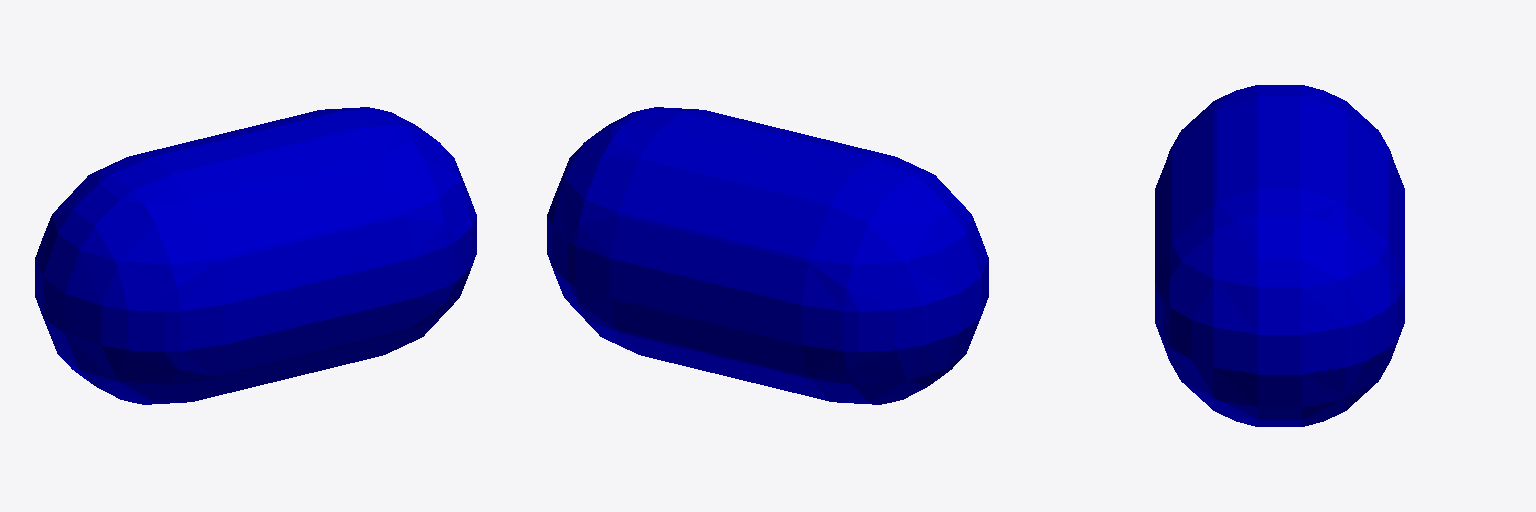
3 views of the same model, side by side, from view 1: azimuth 30°, elevation 25°; view 2: azimuth 150°, elevation 25°; view 3: azimuth 270°, elevation 25° (orthographic).
Visible parts, largest first — view 1: Mball; view 2: Mball; view 3: Mball.
Boxes of the visible parts, <box> form: Mball: <box>35,107,476,404</box>; Mball: <box>547,107,988,404</box>; Mball: <box>1155,85,1404,426</box>.
Bounding box in the file's own units: 4.23 × 2.27 × 2.27.